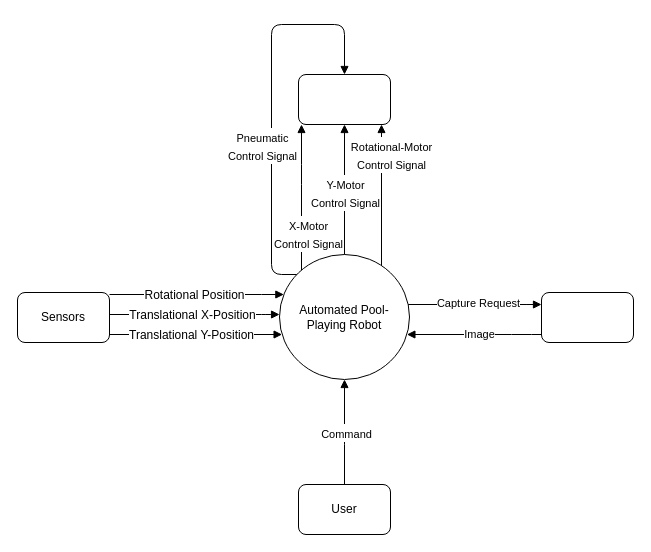
Image size: 651x552. Some labels were removed from this diagram. Here are the shapes that lost their labels. From the top down, the box of each, then its label:
(298, 74, 390, 124): Motors
(540, 292, 634, 342): Camera
